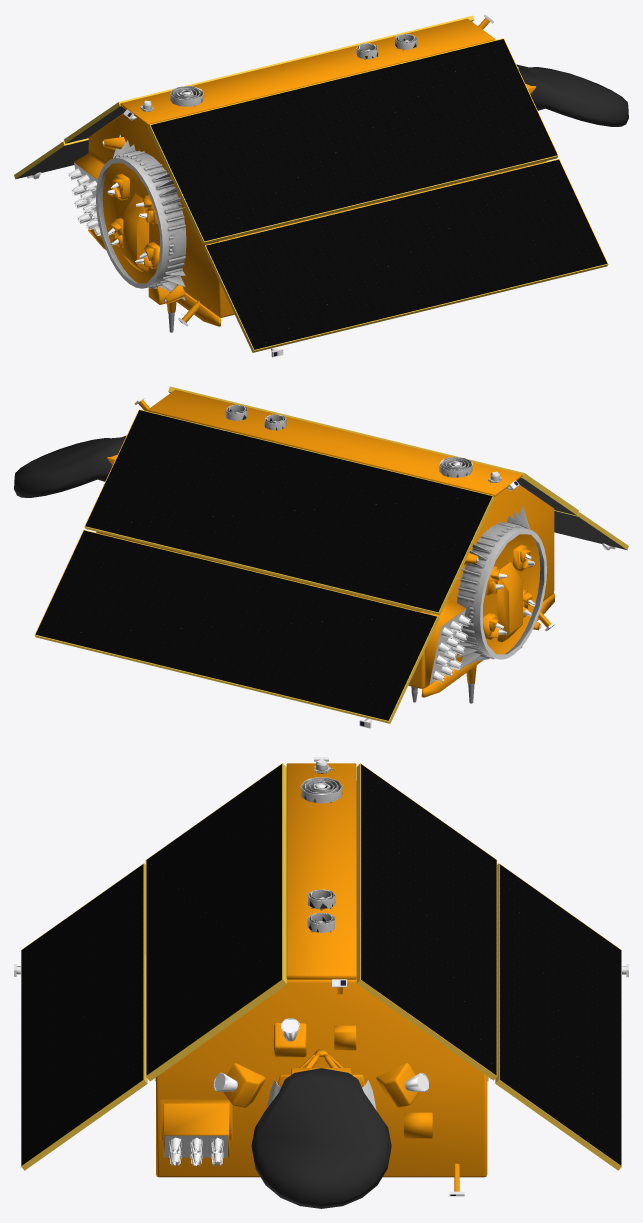
File: sentinel-6.glb
The picture shows the model from 3 angles, top to bottom: view 1: azimuth 30°, elevation 25°; view 2: azimuth 150°, elevation 25°; view 3: azimuth 270°, elevation 25°; orthographic projection. The views are drawn at different scales.
Parts seen in each view (by area): view 1: array, BUS, GNSS_POD_RO_SPA, AMR; view 2: array, BUS, GNSS_POD_RO_SPA, AMR; view 3: array, BUS, AMR, GNSS_POD_RO_SPA.
Boxes of the visible parts, x1=… form: array: x1=14, y1=15, x2=608, y2=352; BUS: x1=27, y1=14, x2=546, y2=357; GNSS_POD_RO_SPA: x1=96, y1=34, x2=417, y2=300; AMR: x1=516, y1=64, x2=628, y2=126; array: x1=34, y1=386, x2=628, y2=723; BUS: x1=96, y1=389, x2=615, y2=728; GNSS_POD_RO_SPA: x1=225, y1=404, x2=546, y2=671; AMR: x1=14, y1=435, x2=126, y2=497; array: x1=21, y1=763, x2=621, y2=1170; BUS: x1=14, y1=757, x2=628, y2=1196; AMR: x1=251, y1=1068, x2=391, y2=1208; GNSS_POD_RO_SPA: x1=300, y1=759, x2=342, y2=932.
Bounding box in the file's own units: 1 × 0.4529 × 0.852.
17 materials, 4 textured.
